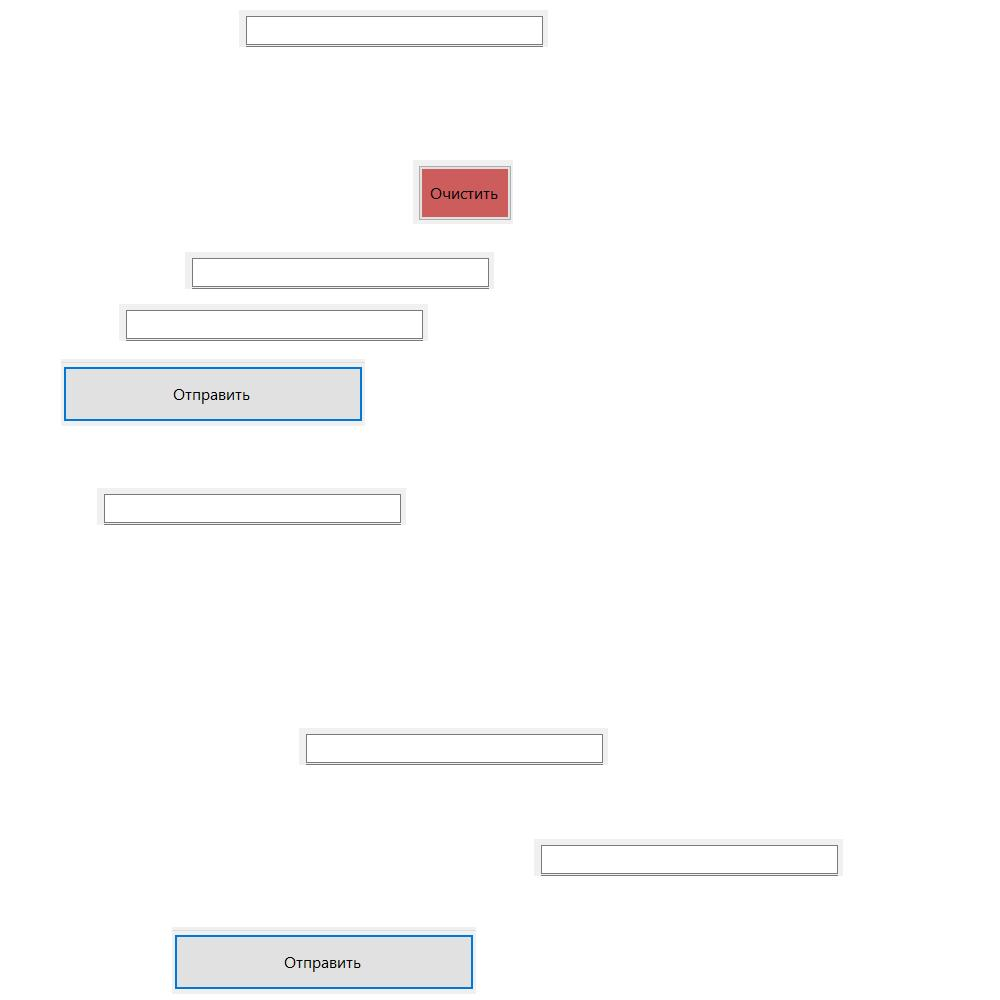Button: (61, 359, 365, 426), (172, 927, 476, 994), (413, 160, 513, 224)
EditText-: (97, 488, 406, 525), (299, 728, 608, 765), (239, 10, 548, 47), (185, 252, 494, 289), (119, 304, 428, 341), (534, 839, 843, 876)
